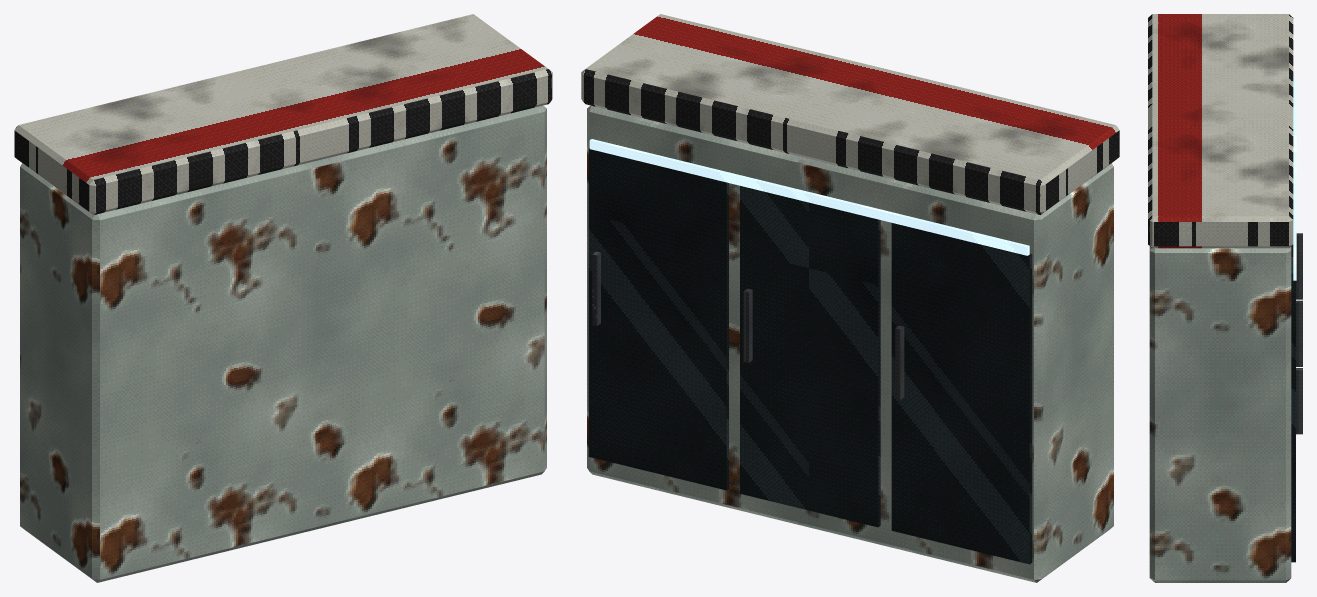
The model's file is int_fridge_row.glb.
3 renders of one model, left to right at view 1: azimuth 30°, elevation 25°; view 2: azimuth 150°, elevation 25°; view 3: azimuth 270°, elevation 25°, orthographic. The views are drawn at different scales.
Visible parts, largest first — view 1: int_fridge_row_mesh; view 2: int_fridge_row_mesh; view 3: int_fridge_row_mesh.
Boxes of the visible parts, left/top/right/bottom form: int_fridge_row_mesh: left=14, top=14, right=552, bottom=582; int_fridge_row_mesh: left=581, top=14, right=1119, bottom=582; int_fridge_row_mesh: left=1148, top=14, right=1302, bottom=582.
Size of what is drawn, in the model's own units: 2.75 by 2.3 by 0.875.
Materials: 6 (6 with a texture image).
